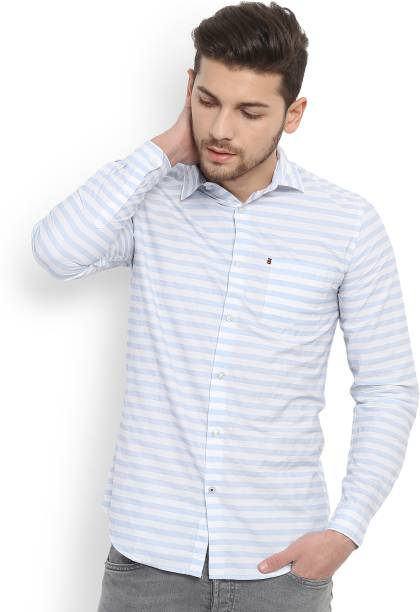Shirt: (22, 143, 420, 586)
